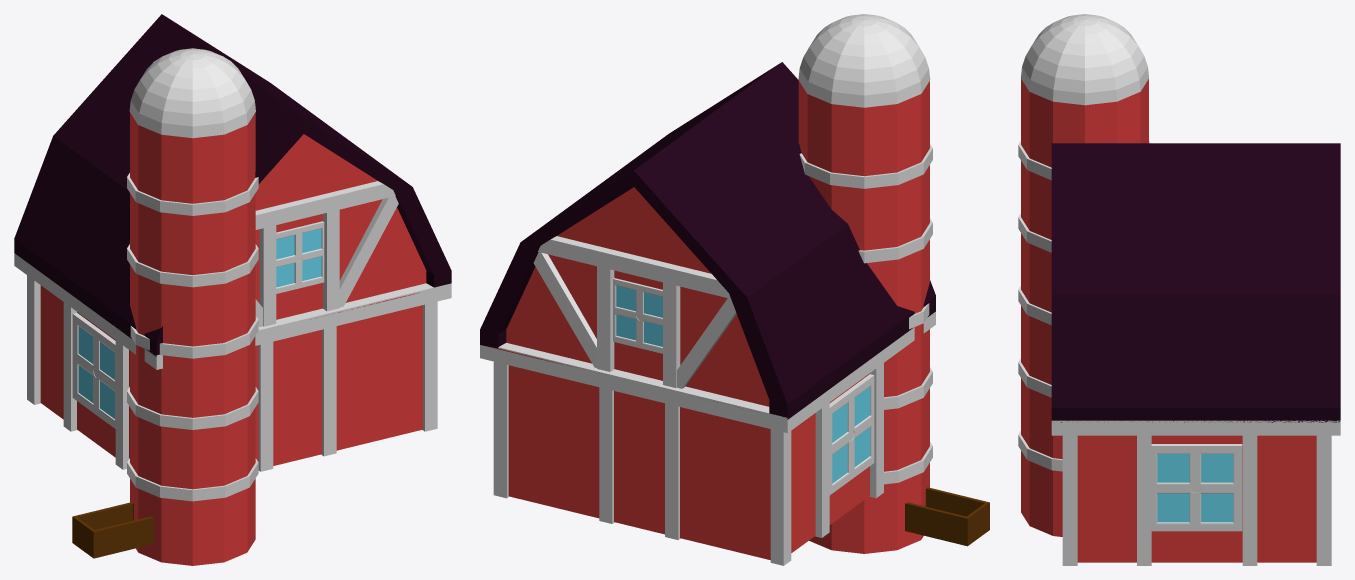
The model's file is Low_Poly_Barn.fbx.
The picture shows the model from 3 angles, left to right: view 1: azimuth 30°, elevation 25°; view 2: azimuth 150°, elevation 25°; view 3: azimuth 270°, elevation 25°; orthographic projection. The views are drawn at different scales.
Parts seen in each view (by area): view 1: Barn, Silo, Cube.001; view 2: Barn, Silo, Cube.001; view 3: Barn, Silo.
Part boxes in pixels (x1,y1,x2,y2): Barn: (14,14,451,471); Silo: (127,48,258,565); Cube.001: (72,502,153,558); Barn: (480,62,935,565); Silo: (798,14,932,553); Cube.001: (905,487,989,546); Barn: (1051,143,1340,565); Silo: (1018,14,1150,536).
Size of the model in its own units: 2785 by 3667 by 2176.
